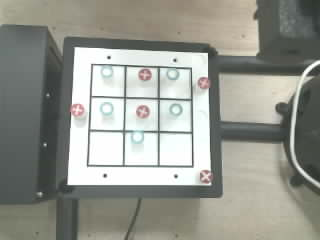blue circle: (100, 102, 113, 115), (131, 131, 143, 143), (170, 103, 182, 115), (167, 68, 179, 79), (101, 65, 112, 77)
board: (67, 47, 212, 186)
cells: (89, 132, 122, 165), (125, 132, 157, 165), (125, 99, 157, 130), (92, 65, 124, 96), (91, 98, 123, 129), (159, 134, 191, 165), (160, 68, 191, 99), (160, 100, 191, 131), (126, 67, 157, 97)
grid: (87, 64, 193, 167)
red cross: (70, 103, 84, 116), (136, 105, 149, 118), (200, 170, 212, 183), (139, 69, 151, 80), (198, 77, 210, 88)
